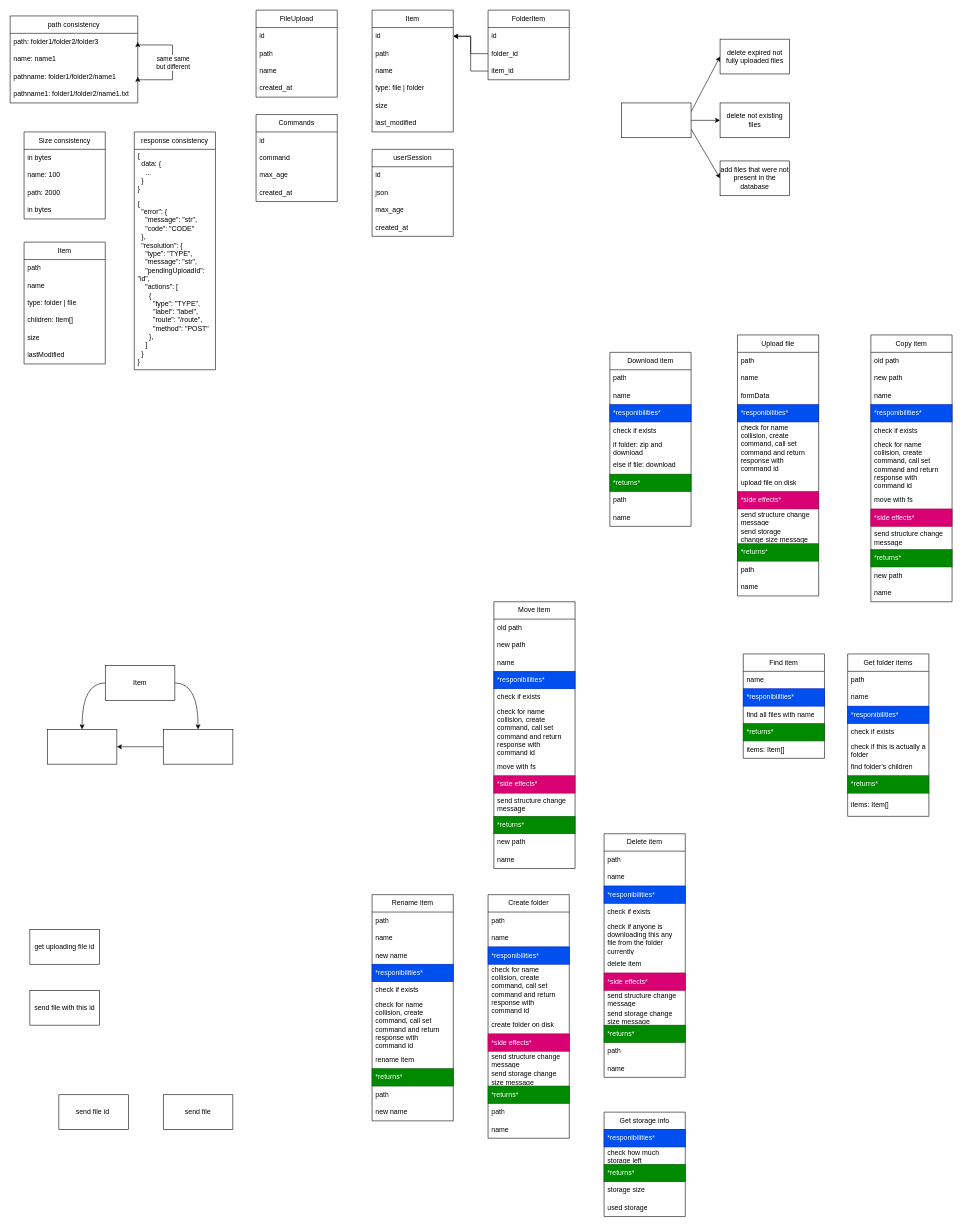
The diagram is 962 pixels wide and 1227 high, and some of its shapes have lost their labels. The centre of each missing label's shape, as x and y in pixels:
"FileService" belongs at (x=198, y=746).
"FolderService" belongs at (x=82, y=746).
"sync files" belongs at (x=656, y=120).
